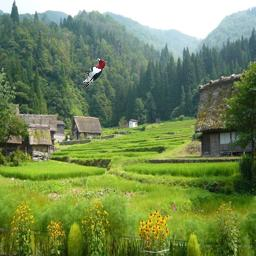Woodpecker: (80, 56, 107, 91)
